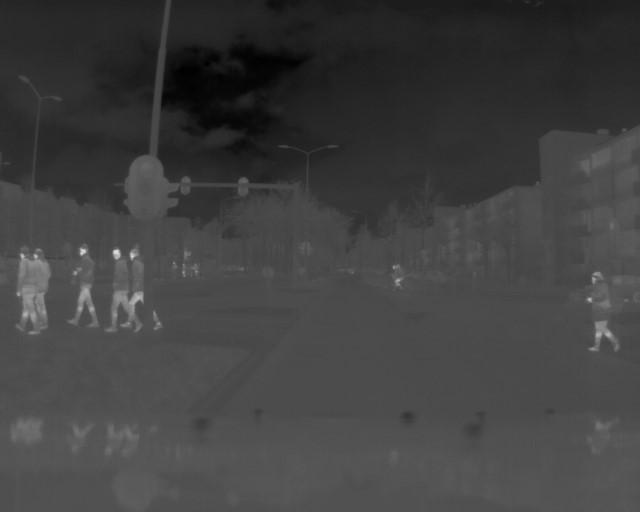person: (129, 243, 162, 331), (72, 235, 99, 332), (588, 267, 616, 358), (14, 242, 41, 336), (110, 245, 130, 335), (391, 259, 404, 292)
